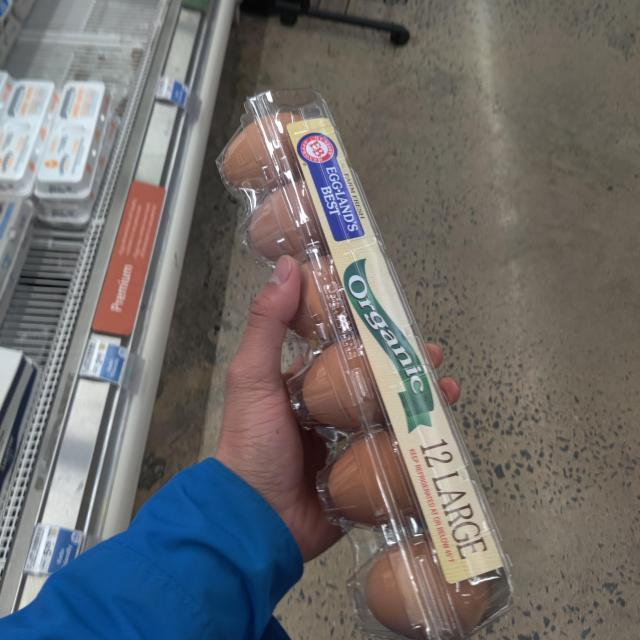Eggs: (220, 93, 517, 640)
